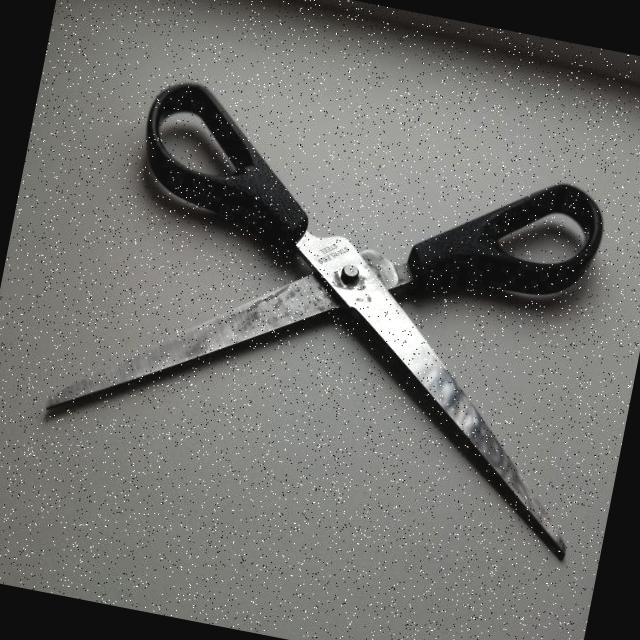scissors: (24, 53, 640, 578)
